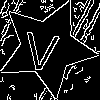V: (22, 23, 62, 72)
